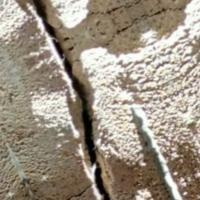crack: (30, 0, 117, 199)
